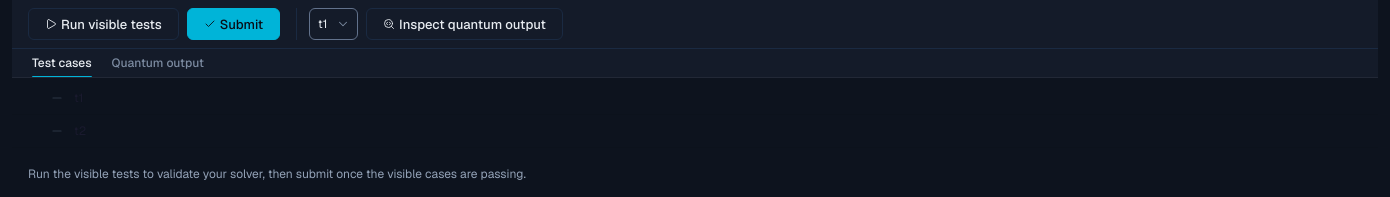
it: TestRunner scores (learn-r10-01) › labels a graded state 'fidelity'
Click the button "Run visible tests": x=103, y=24 [28,8,179,40]
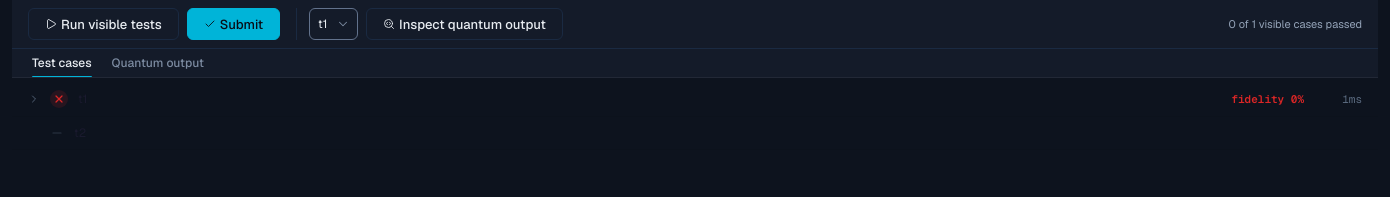
Check: the text "fidelity 0%" is shown, box [1231,92,1304,106]
